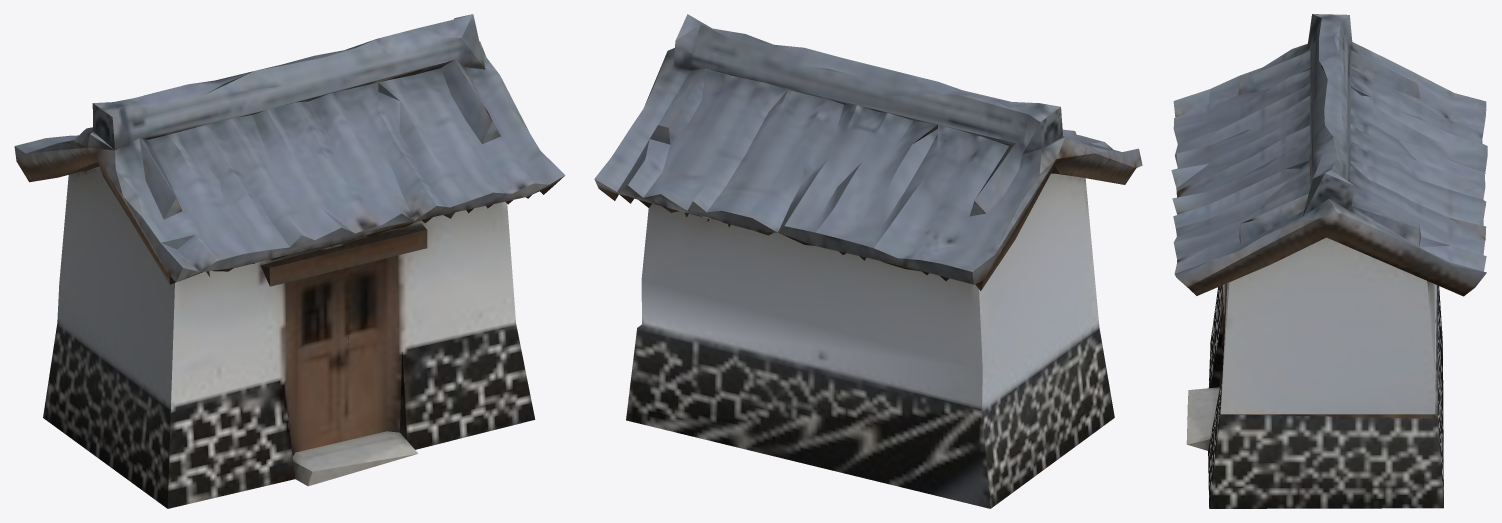
File: storehouse_kura_lod2.glb
3 renders of one model, left to right at view 1: azimuth 30°, elevation 25°; view 2: azimuth 150°, elevation 25°; view 3: azimuth 270°, elevation 25°, orthographic. The views are drawn at different scales.
Parts seen in each view (by area): view 1: storehouse_kura_lod2; view 2: storehouse_kura_lod2; view 3: storehouse_kura_lod2.
Boxes of the visible parts, x1=… form: storehouse_kura_lod2: x1=14, y1=14, x2=565, y2=508; storehouse_kura_lod2: x1=594, y1=14, x2=1142, y2=508; storehouse_kura_lod2: x1=1171, y1=14, x2=1487, y2=508.
Size of the model in its own units: 8.02 by 7 by 5.97.
Materials: 1 (1 with a texture image).
